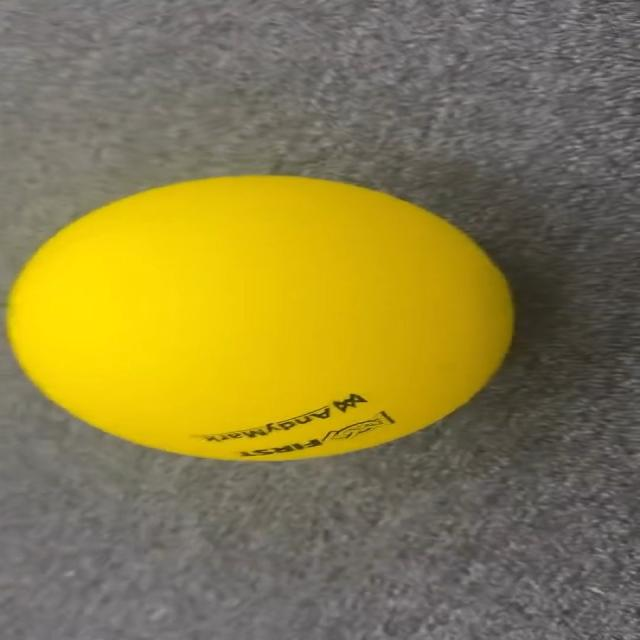Fuels: (9, 178, 516, 456)
